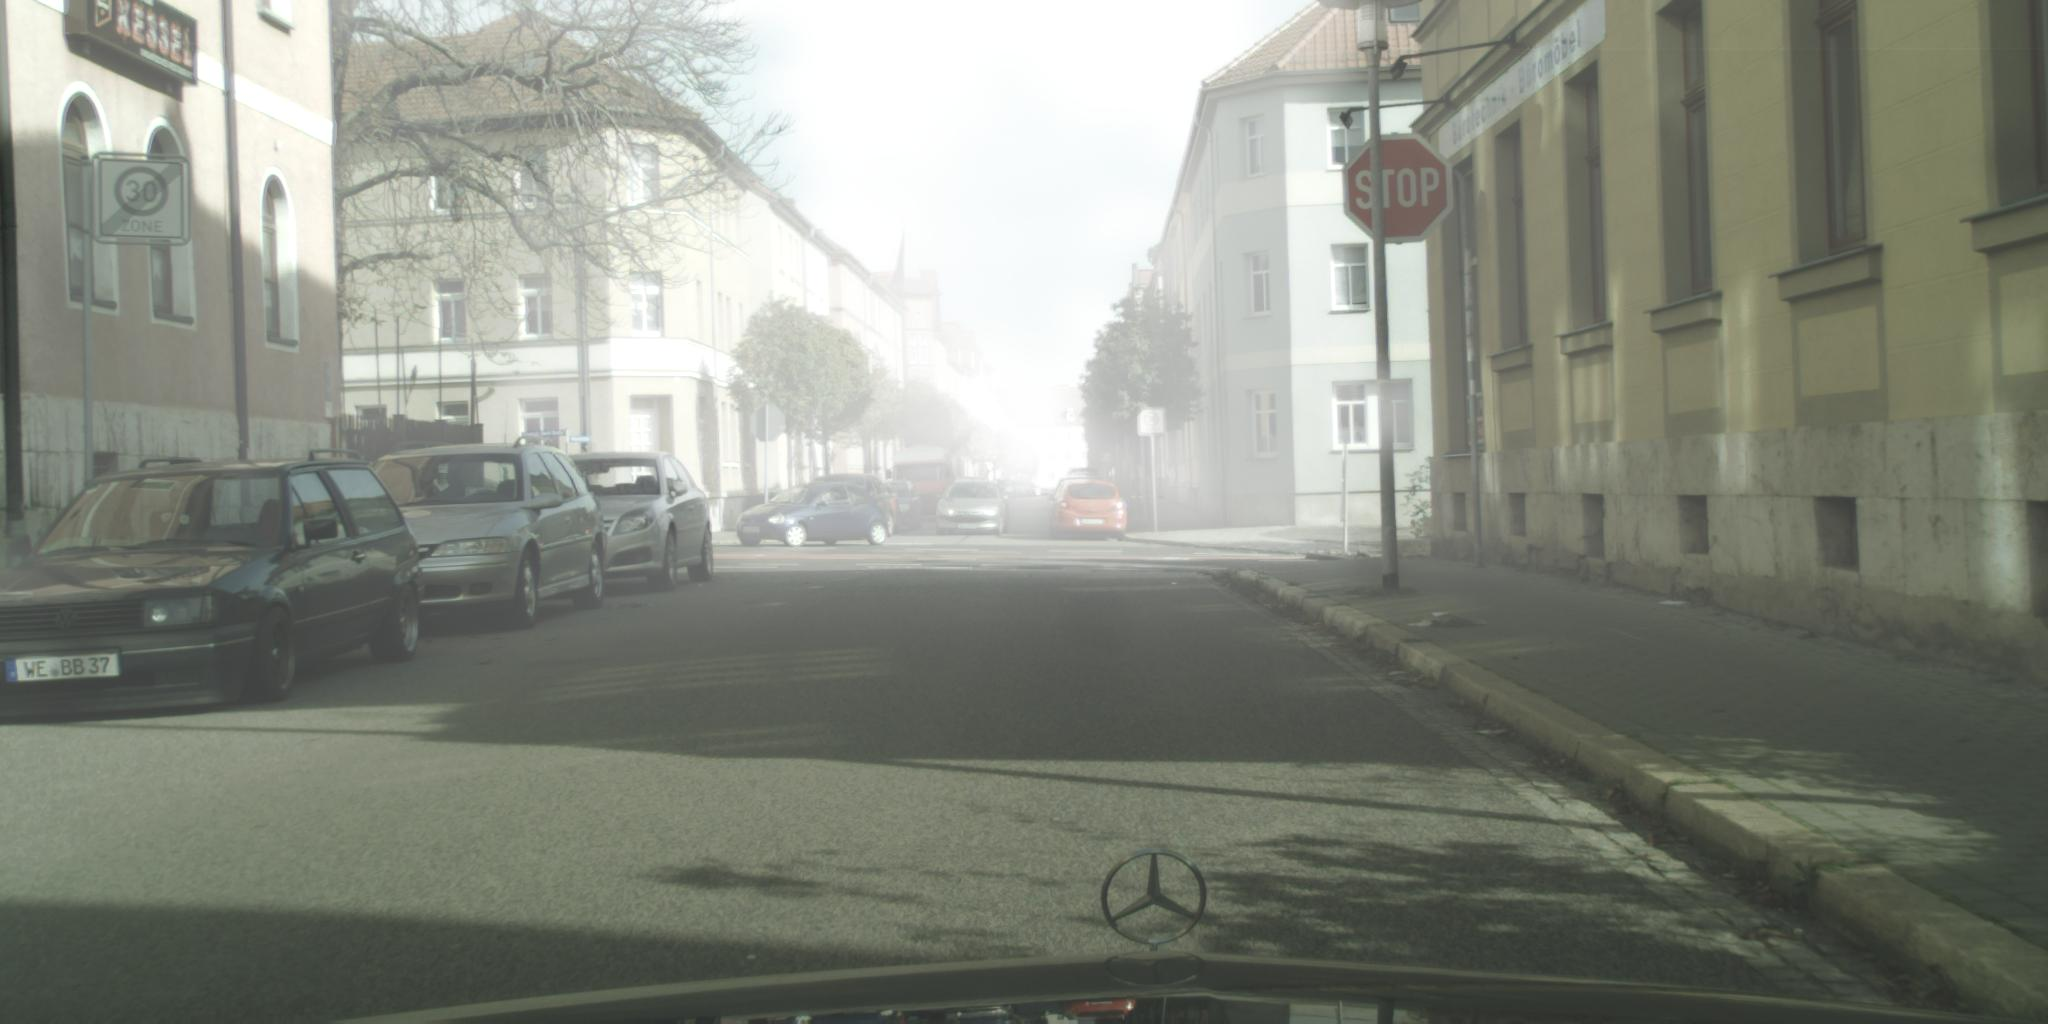car: (1, 451, 428, 713), (330, 435, 609, 632), (550, 451, 714, 593), (737, 482, 889, 549), (808, 474, 896, 538), (1048, 478, 1128, 542), (892, 445, 957, 519), (936, 479, 1011, 536), (874, 481, 923, 532), (1054, 475, 1102, 504), (880, 481, 903, 536), (1068, 468, 1102, 492)
truck: (892, 445, 957, 519)
